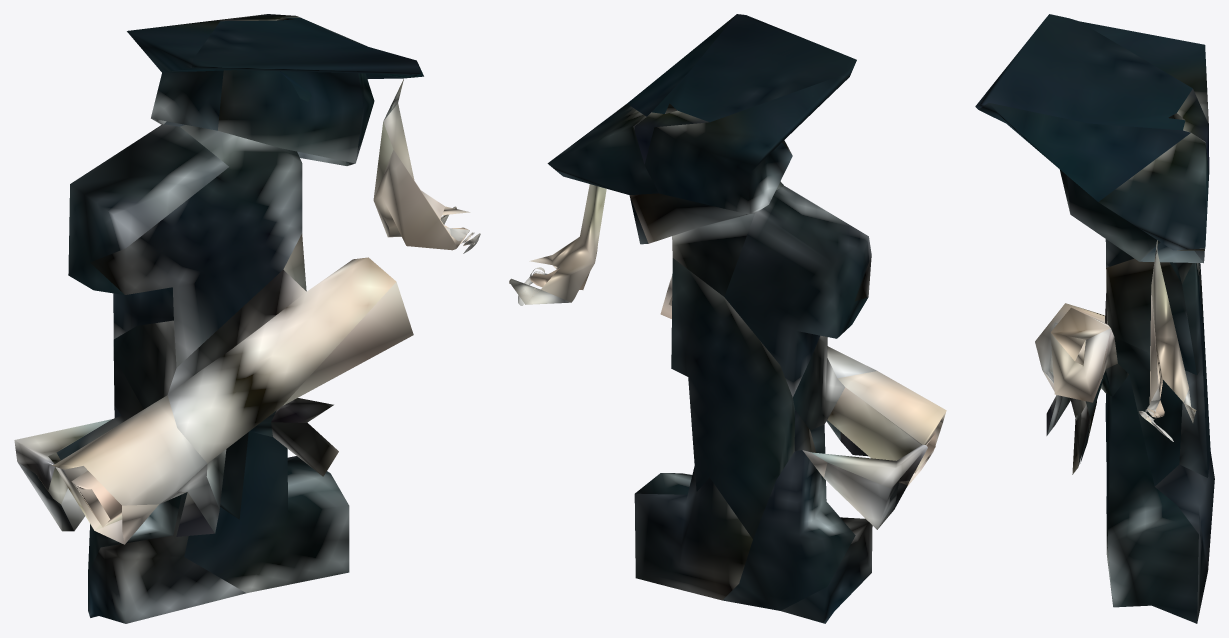
3 renders of one model, left to right at view 1: azimuth 30°, elevation 25°; view 2: azimuth 150°, elevation 25°; view 3: azimuth 270°, elevation 25°, orthographic. The views are drawn at different scales.
Parts seen in each view (by area): view 1: Graduation-1; view 2: Graduation-1; view 3: Graduation-1.
Boxes of the visible parts, bbox=[...] form: Graduation-1: bbox=[14, 14, 480, 623]; Graduation-1: bbox=[509, 14, 946, 623]; Graduation-1: bbox=[975, 14, 1214, 623].
Size of the model in its own units: 0.2304 by 0.2883 by 0.1168.
1 material, 1 textured.
